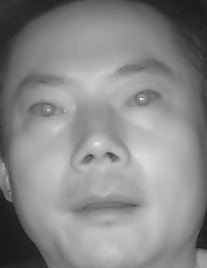eye: (25, 96, 69, 121), (123, 87, 166, 111)
mouth: (67, 185, 148, 231)
